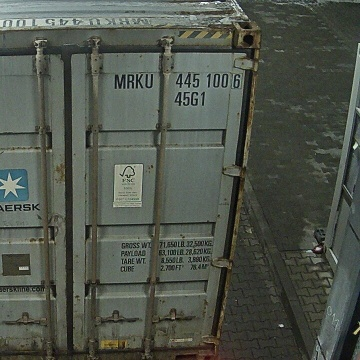serial_id: (114, 73, 241, 88)
